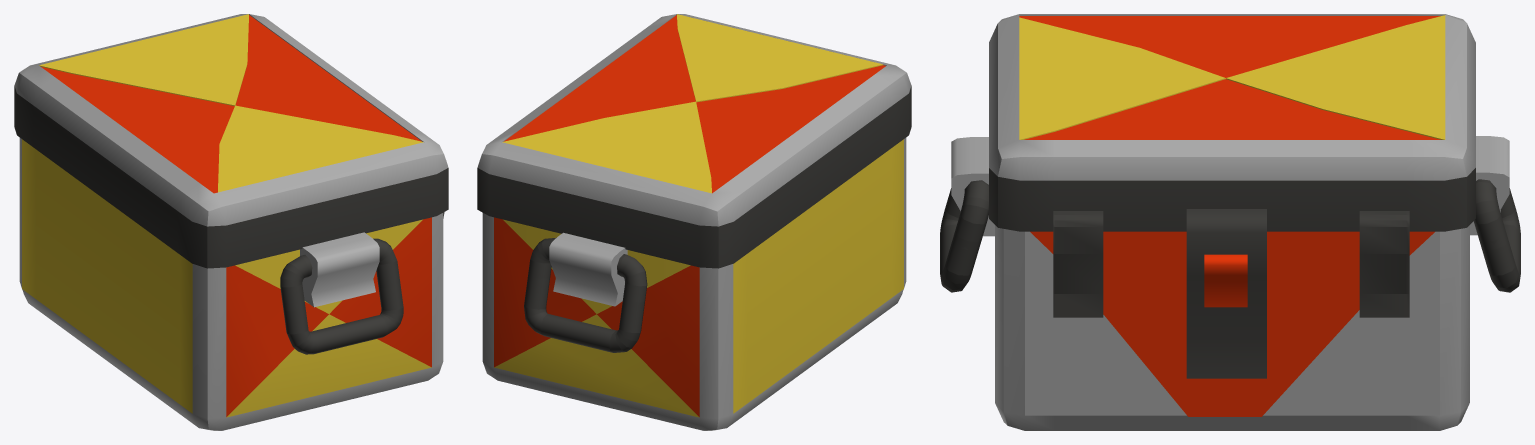
3 views of the same model, side by side, from view 1: azimuth 30°, elevation 25°; view 2: azimuth 150°, elevation 25°; view 3: azimuth 270°, elevation 25° (orthographic). The views are drawn at different scales.
Visible parts, largest first — view 1: polySurface149; view 2: polySurface149; view 3: polySurface149.
Boxes of the visible parts, box(x1,y1,x2,y2) form: polySurface149: box(14, 14, 448, 430); polySurface149: box(477, 14, 911, 430); polySurface149: box(940, 14, 1520, 430).
Size of the model in its own units: 145 by 118 by 214.
